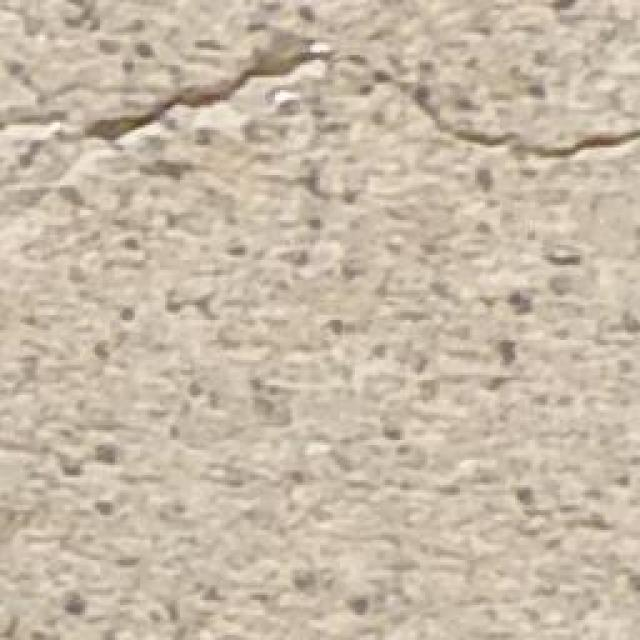concrete-crack: (0, 40, 637, 164)
